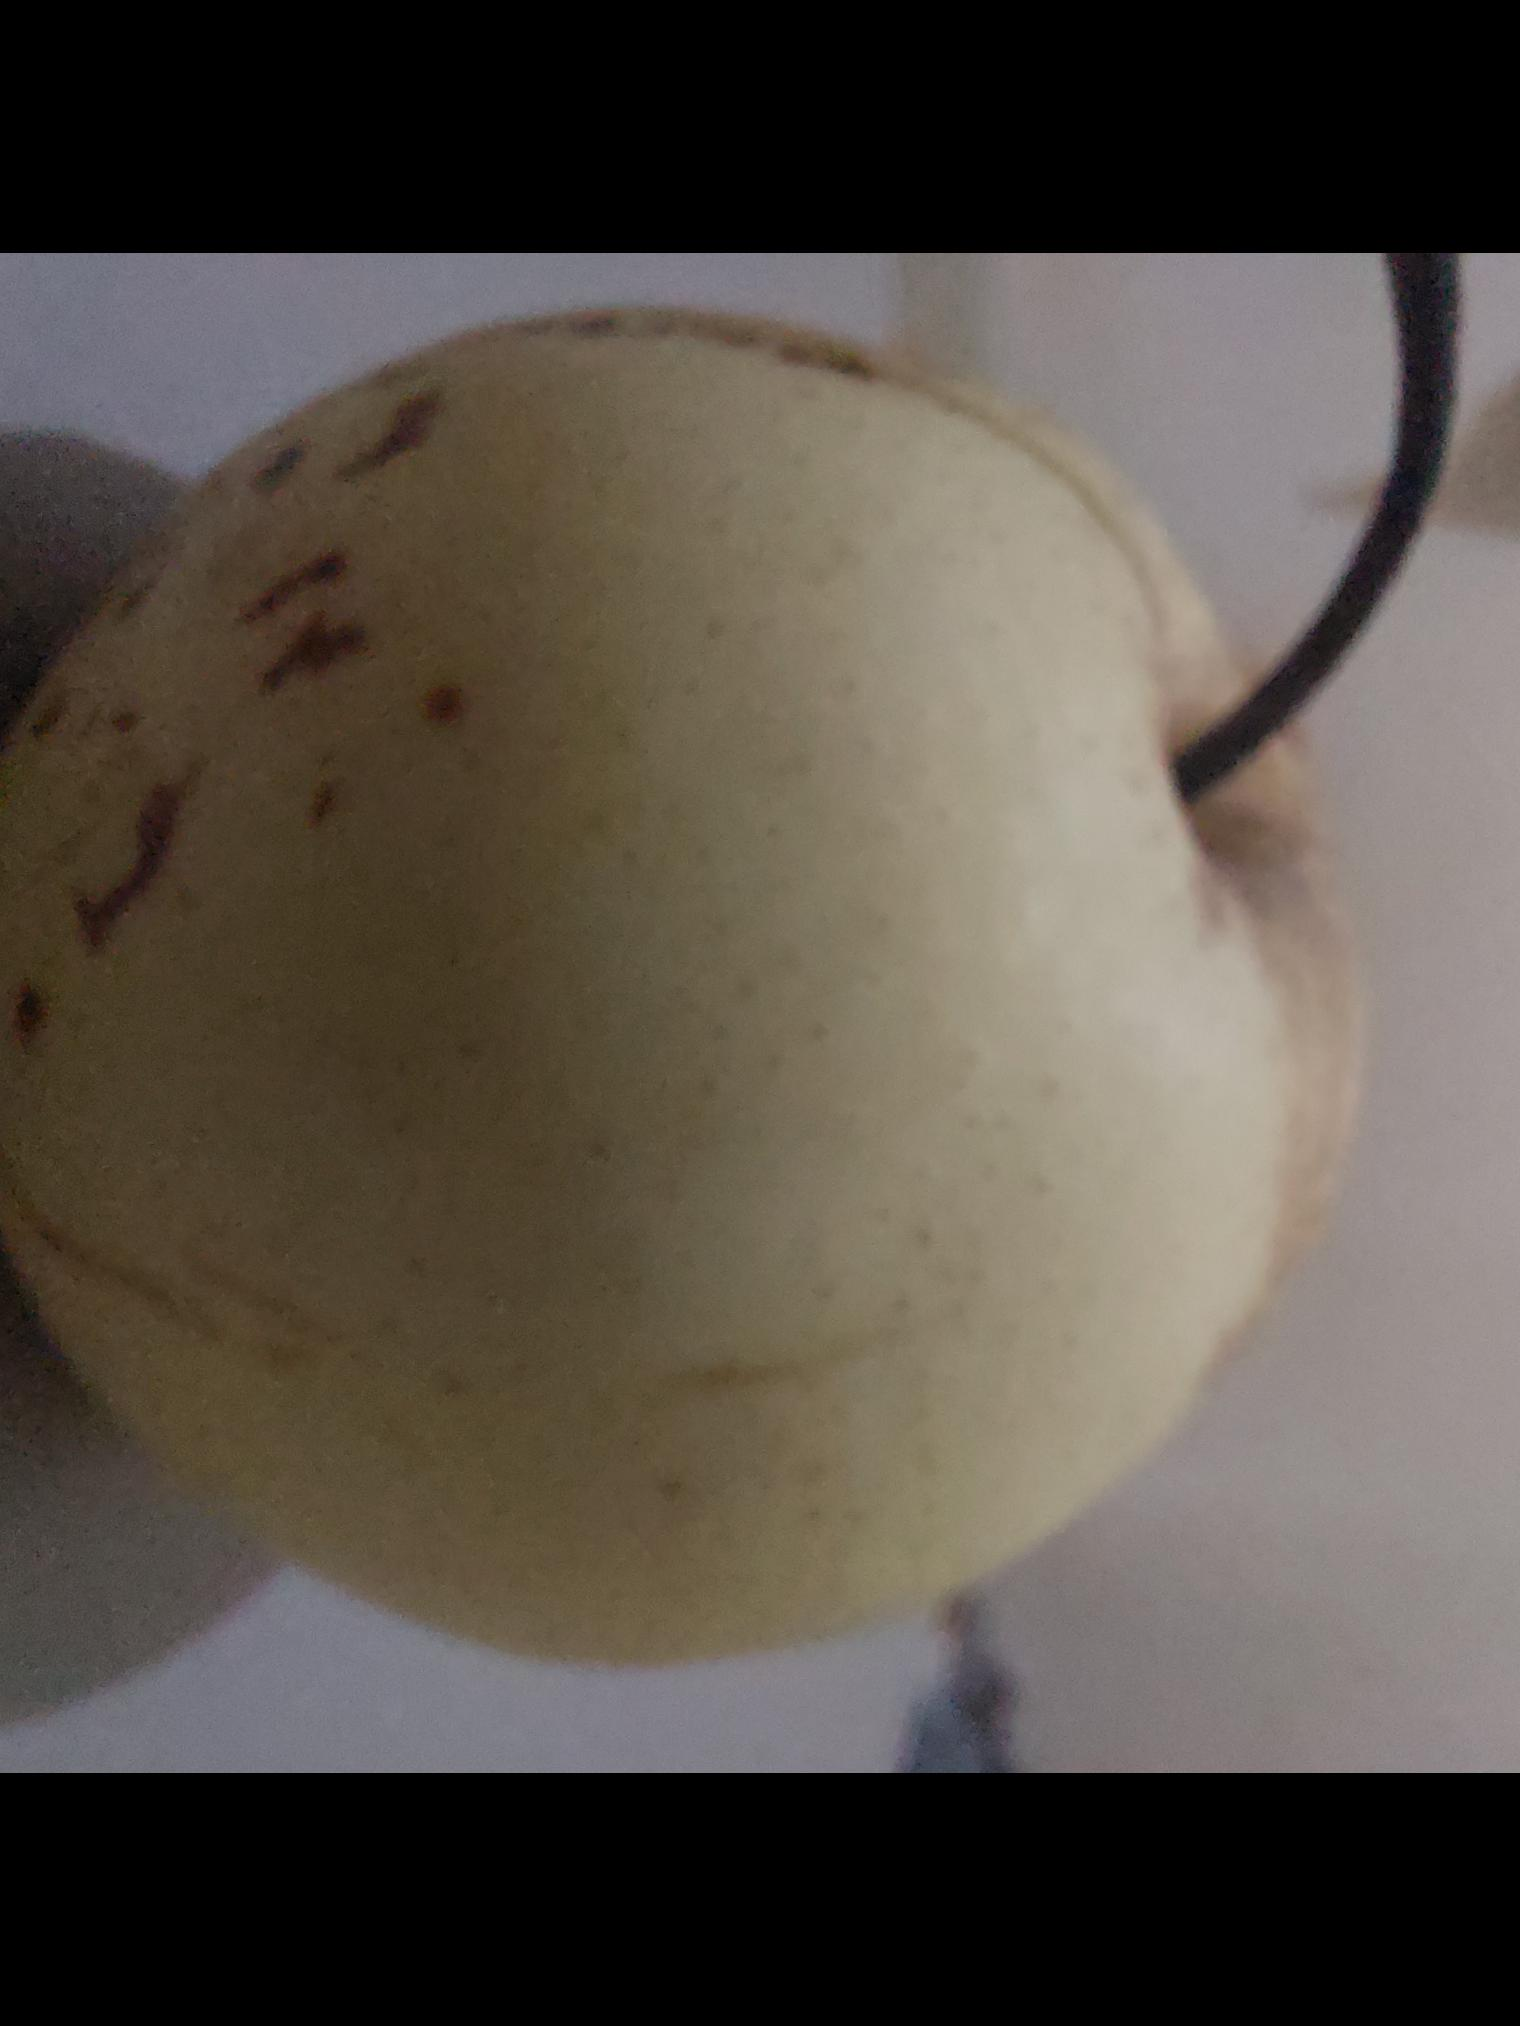Bad Pear: (0, 323, 1371, 1699)
